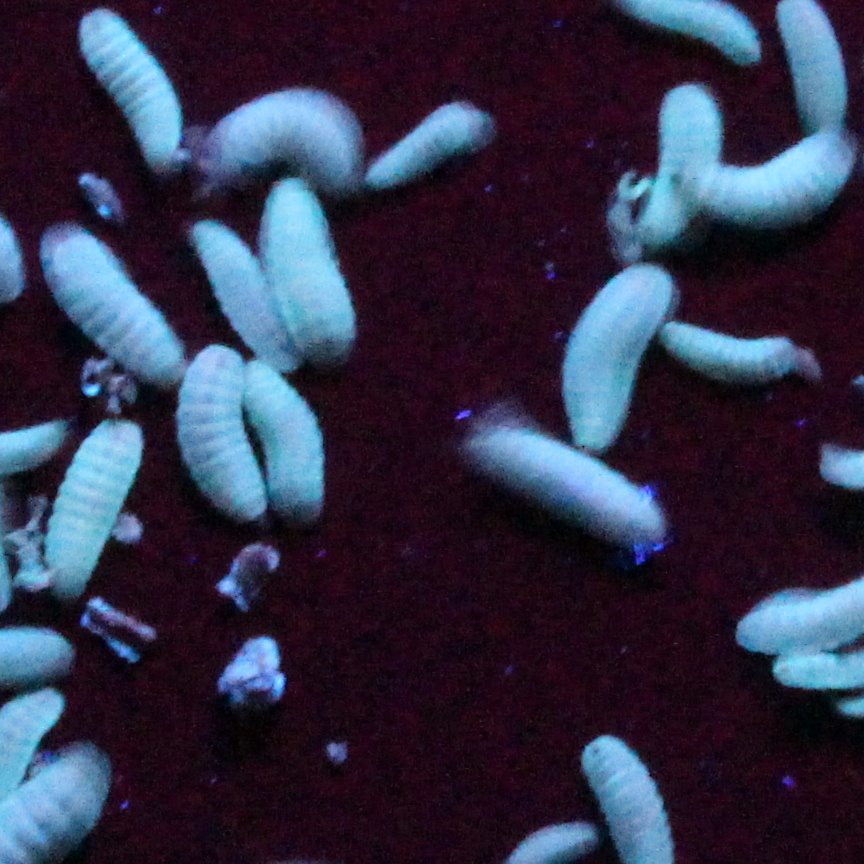larve: (31, 214, 186, 380), (474, 425, 660, 538), (191, 77, 360, 200), (574, 252, 667, 458), (269, 180, 360, 360), (171, 349, 263, 517), (640, 98, 727, 258), (700, 132, 860, 218), (363, 100, 500, 194), (186, 212, 271, 352), (260, 372, 334, 520), (667, 325, 794, 385)
